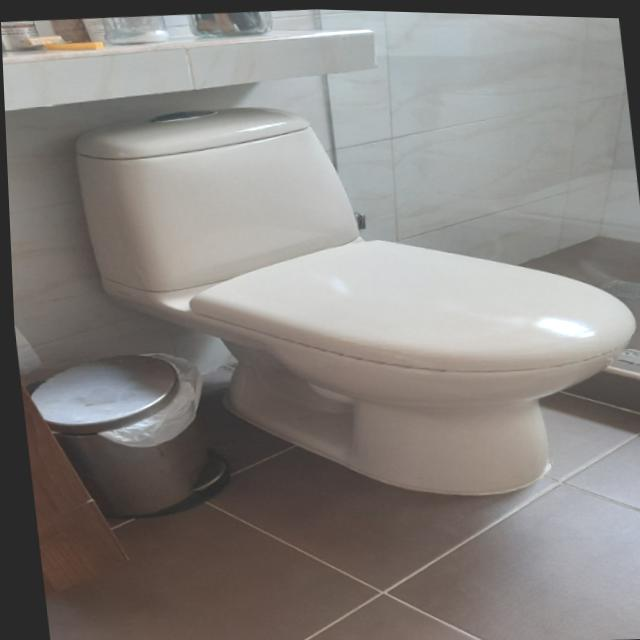toilet: (67, 75, 640, 523)
